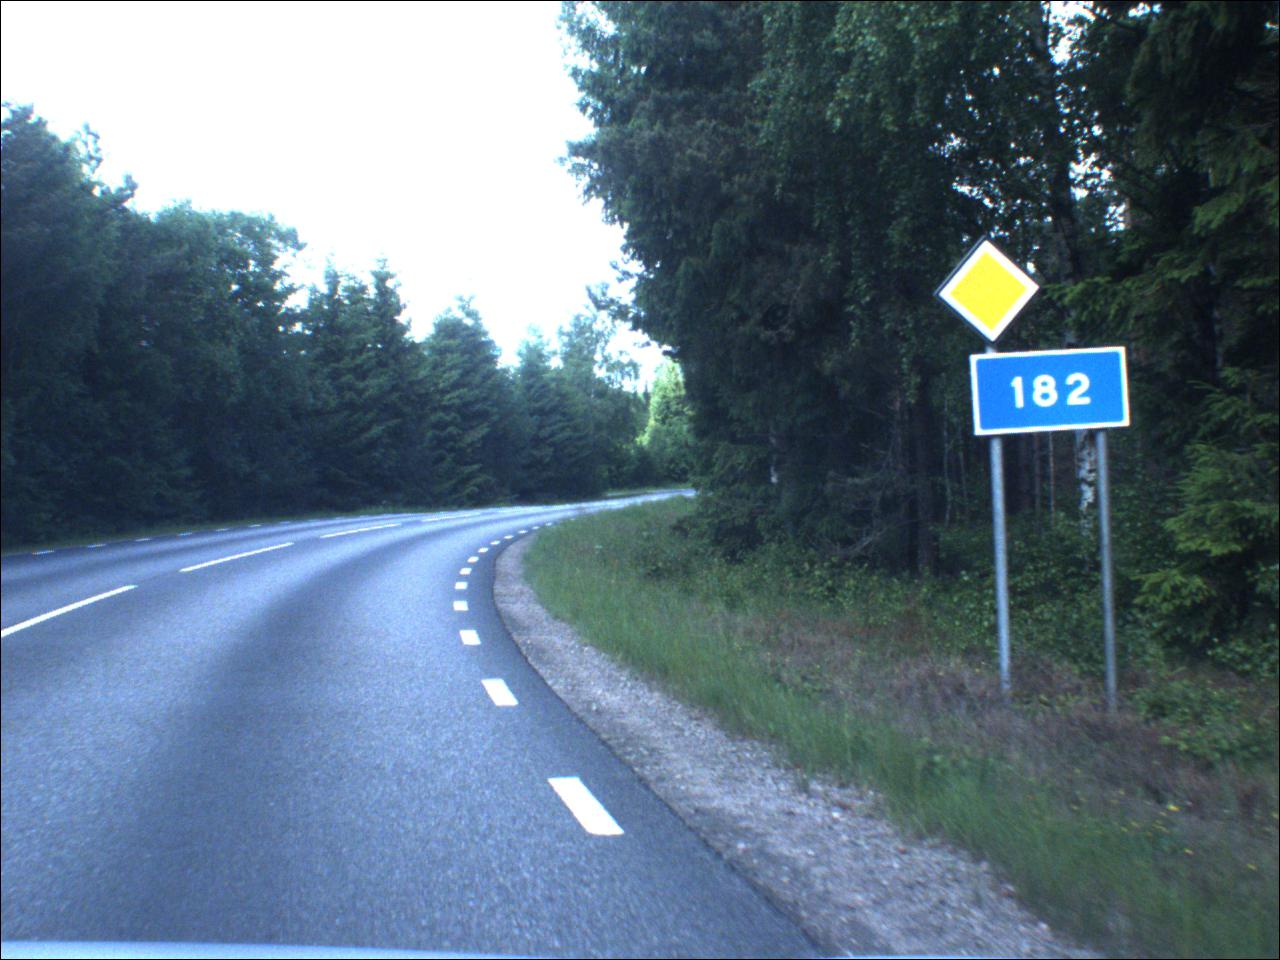PRIORITY_ROAD: (937, 236, 1044, 344)
